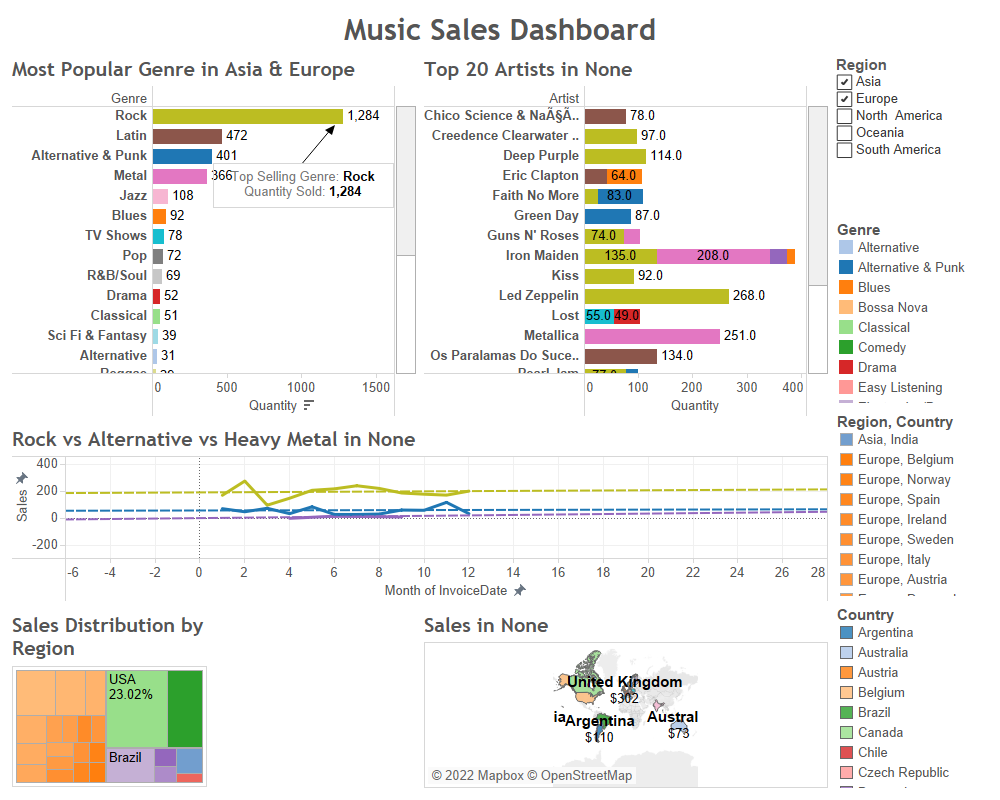

The page's visual inventory and layout, read from the dashboard file:
{"tool":"tableau","page":{"name":"Music Sales Dashboard","canvas":[1000,800],"ordinal":1},"visuals":[{"type":"title","box":[8,8,984,43]},{"type":"worksheet","title":"1 - Most Popular Genre","mark":"Automatic","rows":["Genre"],"cols":["Quantity"],"box":[8,51,412,370.5]},{"type":"worksheet","title":"2 - Top 20 Artists","mark":"Automatic","rows":["Artist"],"cols":["Quantity"],"box":[420,51,412,370.5]},{"type":"filter","title":"1 - Most Popular Genre","param":"[excel.41483.051647499997].[none:Region:nk]","box":[832,51,160,164]},{"type":"legend","title":"1 - Most Popular Genre","param":"[excel.41483.051647499997].[none:Genre:nk]","box":[832,215,160,192.3]},{"type":"legend","title":"3 - Sales Distribution by Region","param":"[excel.41483.051647499997].[none:Region:nk]\n[excel.41483.051647499997].[none:Cou","box":[832,407.3,160,192.3]},{"type":"worksheet","title":"5- Rock vs Alt vs Heavy Metal","mark":"Automatic","rows":["Calculation_1800807123004051"],"cols":["InvoiceDate"],"box":[8,421.5,824,185.2]},{"type":"legend","title":"4 - Sales by Geography","param":"[excel.41483.051647499997].[none:Country:nk]","box":[832,599.7,160,192.3]},{"type":"worksheet","title":"3 - Sales Distribution by Region","mark":"Automatic","box":[8,606.7,412,185.3]},{"type":"worksheet","title":"4 - Sales by Geography","mark":"Multipolygon","box":[420,606.7,412,185.3]}]}

Visuals, with their boxes in screenshot pixels (x1, y1, x2, y2), scaled from the page's 1000x800 canvas onto the 1000x800 screenshot:
title: 8,8,992,51
"1 - Most Popular Genre" worksheet: 8,51,420,422
"2 - Top 20 Artists" worksheet: 420,51,832,422
"1 - Most Popular Genre" filter: 832,51,992,215
"1 - Most Popular Genre" legend: 832,215,992,407
"3 - Sales Distribution by Region" legend: 832,407,992,600
"5- Rock vs Alt vs Heavy Metal" worksheet: 8,422,832,607
"4 - Sales by Geography" legend: 832,600,992,792
"3 - Sales Distribution by Region" worksheet: 8,607,420,792
"4 - Sales by Geography" worksheet (Multipolygon marks): 420,607,832,792
